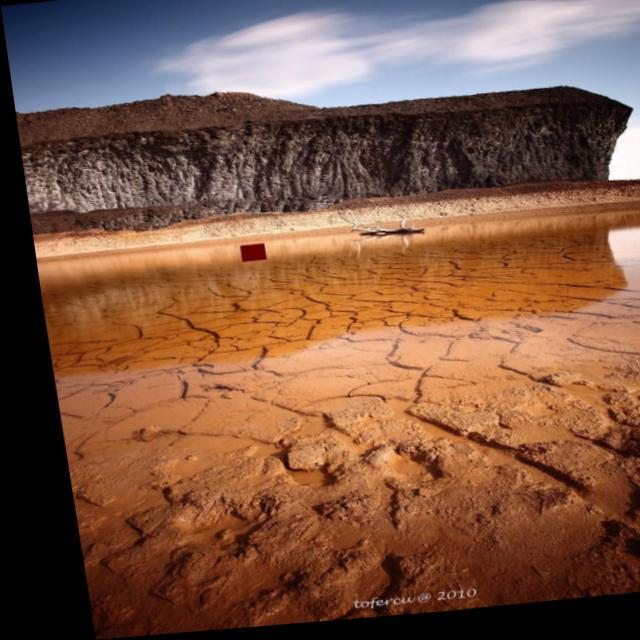RedSquare: (229, 242, 261, 266)
